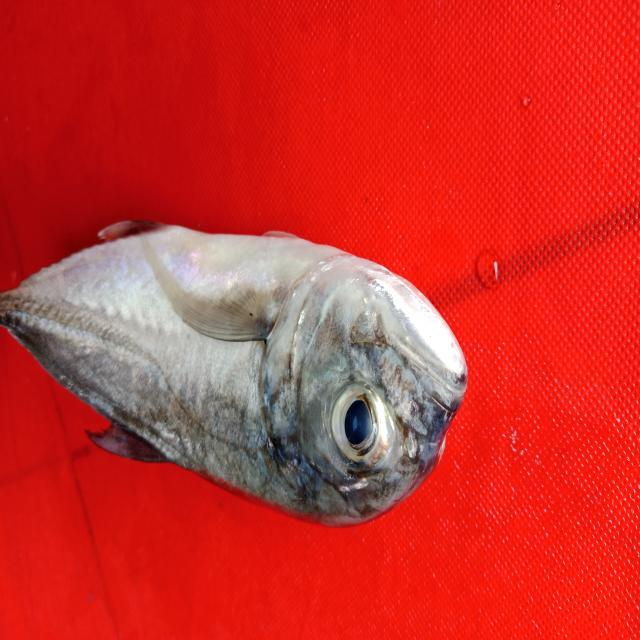ikan: (6, 205, 482, 550)
